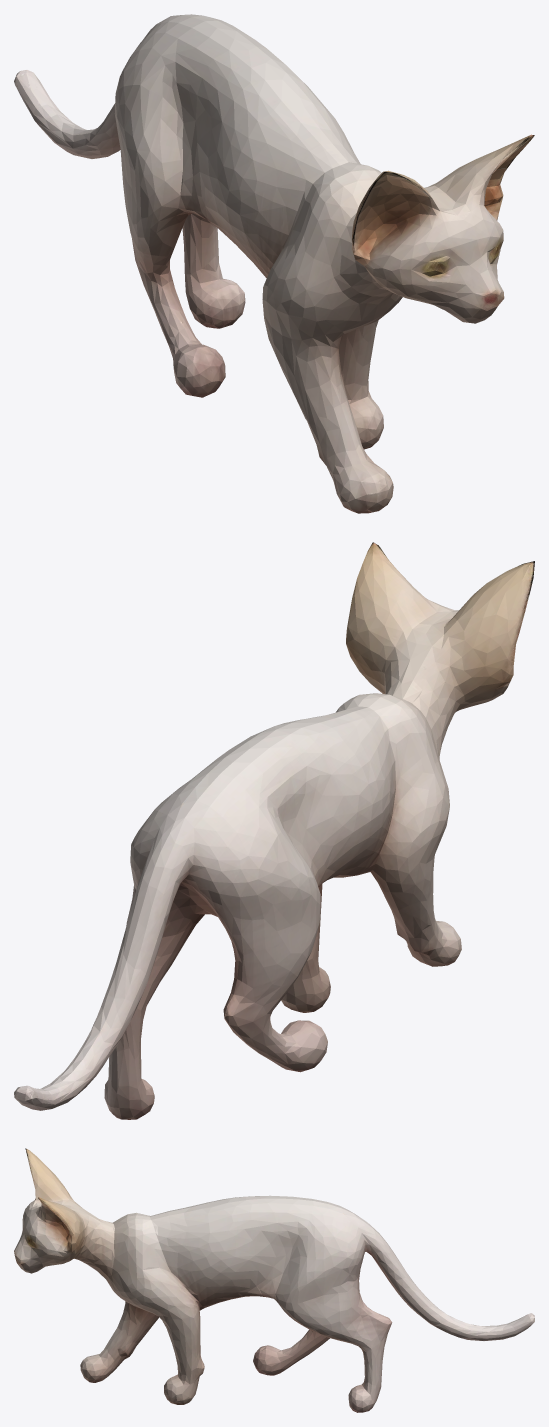
3 renders of one model, top to bottom at view 1: azimuth 30°, elevation 25°; view 2: azimuth 150°, elevation 25°; view 3: azimuth 270°, elevation 25°, orthographic. The views are drawn at different scales.
Parts seen in each view (by area): view 1: geometry_0; view 2: geometry_0; view 3: geometry_0.
Boxes of the visible parts, bbox=[...] form: geometry_0: bbox=[14, 14, 534, 513]; geometry_0: bbox=[14, 542, 534, 1119]; geometry_0: bbox=[14, 1148, 534, 1412].
Size of the model in its own units: 0.209 by 0.479 by 0.999.
Materials: 1 (1 with a texture image).
